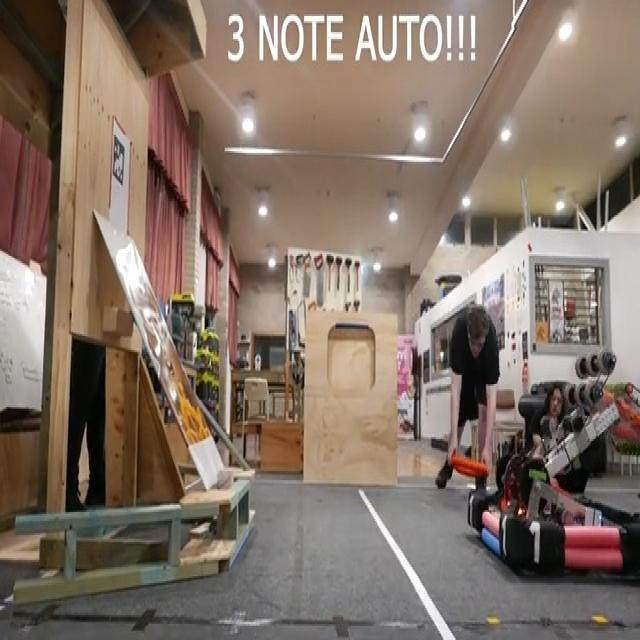note: (451, 453, 489, 478)
